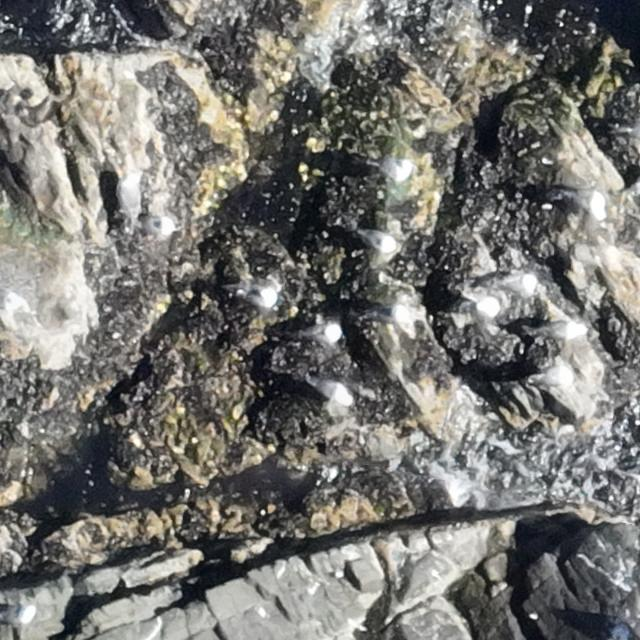umineko: (305, 377, 351, 408), (562, 188, 606, 219), (118, 171, 144, 220), (292, 319, 341, 344), (440, 299, 501, 316), (242, 279, 280, 306), (534, 322, 588, 341), (134, 215, 177, 237), (527, 367, 573, 387), (4, 603, 41, 626), (495, 274, 535, 293), (394, 304, 418, 333), (360, 229, 393, 248)
